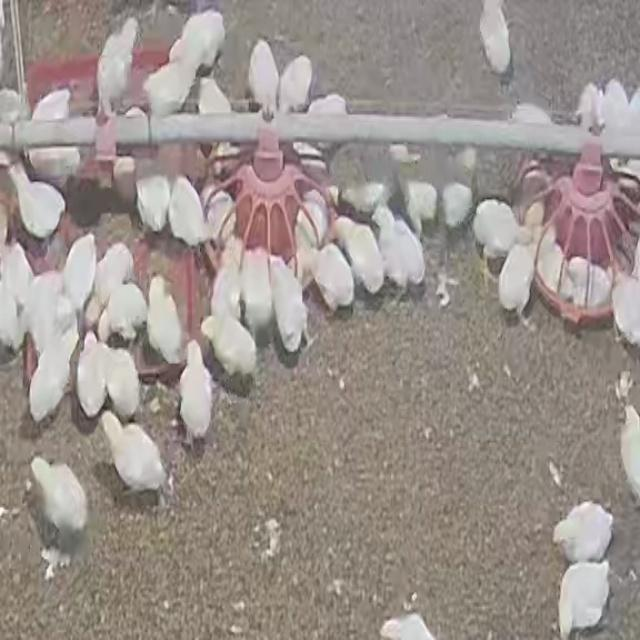chicken: (99, 410, 169, 502), (4, 159, 65, 241), (200, 304, 258, 388), (28, 326, 77, 425), (553, 560, 613, 638), (374, 205, 426, 293), (96, 16, 139, 115), (33, 454, 86, 534), (29, 86, 76, 172), (269, 254, 309, 355), (554, 500, 614, 564), (26, 270, 70, 355), (145, 275, 185, 367), (178, 341, 214, 443), (342, 214, 385, 296), (102, 339, 144, 422), (238, 247, 274, 341), (497, 239, 538, 321), (177, 7, 227, 74), (301, 94, 350, 162), (60, 232, 99, 317), (142, 59, 197, 117), (471, 197, 521, 260), (117, 104, 153, 191), (312, 240, 354, 314), (104, 278, 149, 346), (76, 331, 109, 420), (95, 238, 136, 304), (476, 0, 512, 75), (167, 177, 204, 247), (1, 240, 33, 319), (246, 39, 281, 111), (134, 168, 172, 234), (208, 254, 240, 329), (569, 256, 611, 308), (278, 54, 314, 114), (598, 79, 632, 139), (611, 276, 640, 346), (534, 236, 566, 298), (297, 192, 330, 252), (0, 276, 23, 357), (203, 184, 235, 242), (405, 180, 439, 231), (441, 180, 474, 231), (380, 612, 440, 640), (340, 180, 387, 215), (196, 78, 234, 116), (329, 215, 358, 255), (575, 82, 599, 129), (522, 200, 546, 242), (511, 102, 553, 125), (307, 94, 347, 115)
